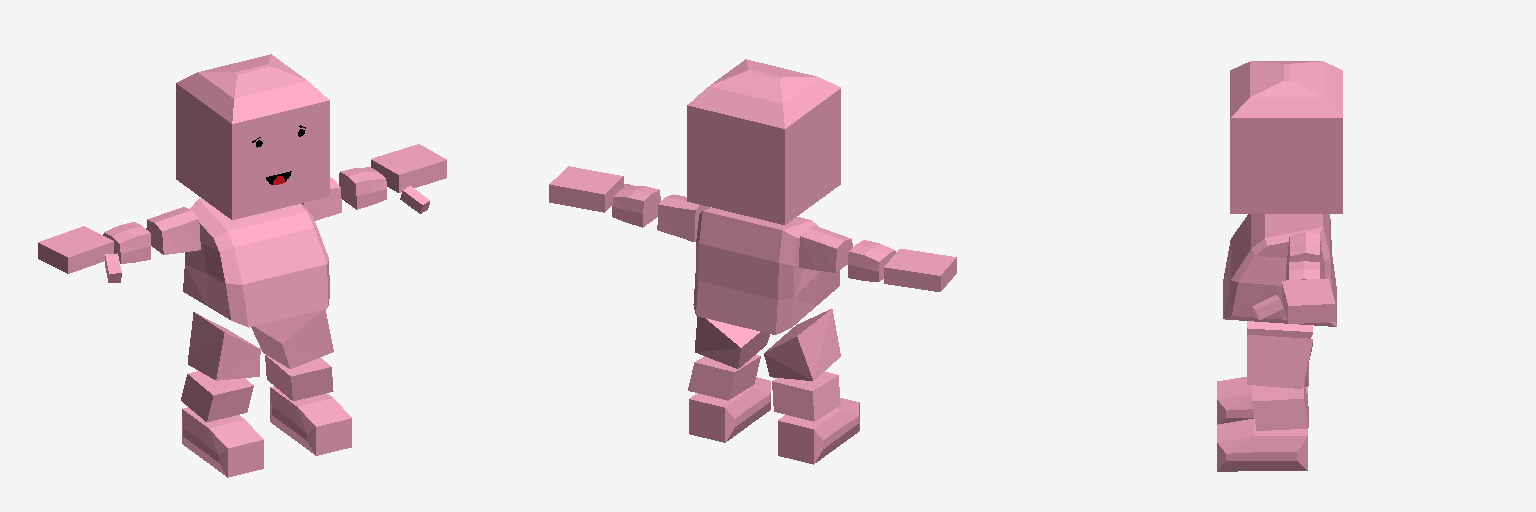
3 views of the same model, side by side, from view 1: azimuth 30°, elevation 25°; view 2: azimuth 150°, elevation 25°; view 3: azimuth 270°, elevation 25° (orthographic).
Parts seen in each view (by area): view 1: Platformer.003; view 2: Platformer.003; view 3: Platformer.003.
Boxes of the visible parts, box(x1,y1,x2,y2) form: Platformer.003: box(38, 54, 446, 477); Platformer.003: box(549, 59, 956, 464); Platformer.003: box(1217, 61, 1342, 471).
Size of the model in its own units: 2.61 by 2.35 by 0.7313.
Materials: 1 (1 with a texture image).